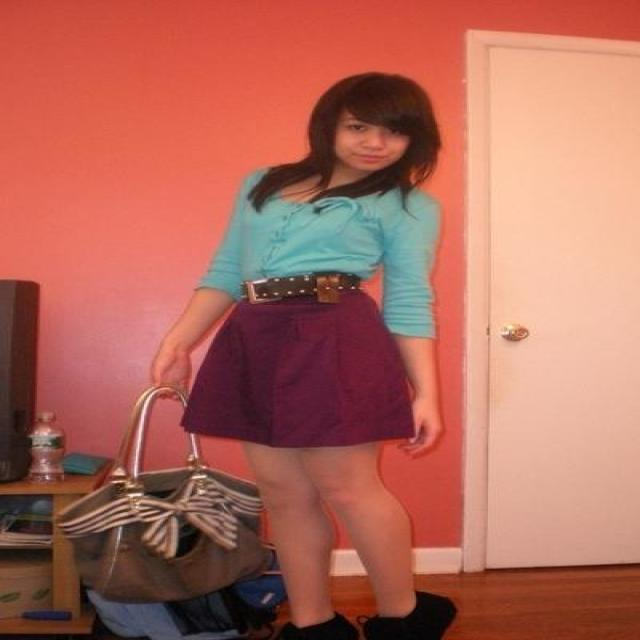bag: (59, 458, 282, 604)
shirt: (202, 192, 438, 336)
shoe: (261, 591, 456, 639)
skirt: (180, 294, 414, 447)
